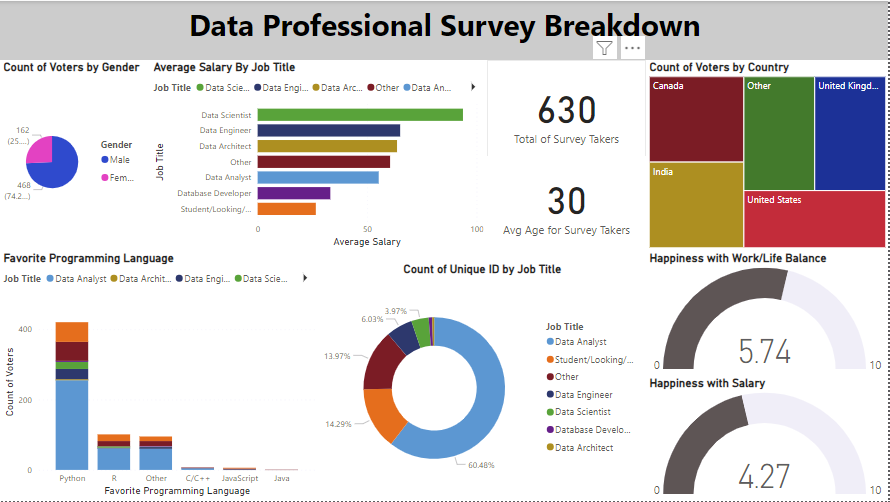

What the dashboard file says about the page in this screenshot:
{"tool":"powerbi","page":{"name":"Page 1","canvas":[1280,720],"ordinal":0},"visuals":[{"type":"textbox","box":[0,0,1280.2,85],"z":0},{"type":"card","fields":{"Values":["Count(Data Professional Survey.Unique ID)"]},"box":[701.3,85,229,151.2],"z":1000},{"type":"card","fields":{"Values":["Avg(Data Professional Survey.Q10 - Current Age)"]},"box":[701.3,223.2,229,136.8],"z":2000},{"type":"barChart","title":"Average Salary By Job Title","fields":{"Category":["Data Professional Survey.Q1 - Which Title Best Fits your Current Role?.1"],"Y":["Avg(Data Professional Survey.Average Salary)"],"Series":["Data Professional Survey.Q1 - Which Title Best Fits your Current Role?.1"]},"box":[216,85,485.3,275],"z":3000},{"type":"columnChart","title":"Favorite Programming Language","fields":{"Category":["Data Professional Survey.Q5 - Favorite Programming Language.1"],"Y":["CountNonNull(Data Professional Survey.Unique ID)"],"Series":["Data Professional Survey.Q1 - Which Title Best Fits your Current Role?.1"]},"box":[0,360,459.4,358.6],"z":4000},{"type":"donutChart","fields":{"Category":["Data Professional Survey.Q1 - Which Title Best Fits your Current Role?.1"],"Y":["CountNonNull(Data Professional Survey.Unique ID)"]},"box":[459.4,375.8,470.9,344.2],"z":5000},{"type":"treemap","title":"Count of Voters by Country","fields":{"Group":["Data Professional Survey.Q11 - Which Country do you live in?.1"],"Values":["Count(Data Professional Survey.Q11 - Which Country do you live in?.1)"]},"box":[930.2,85,349.9,275],"z":6000},{"type":"gauge","title":"Happiness with Work/Life Balance","fields":{"Y":["Avg(Data Professional Survey.Q6 - How Happy are you in your Current Position with the following? (Work/Life Balance))"],"MinValue":["Min(Data Professional Survey.Q6 - How Happy are you in your Current Position with the following? (Work/Life Balance))"],"MaxValue":["Max(Data Professional Survey.Q6 - How Happy are you in your Current Position with the following? (Work/Life Balance))1"]},"box":[930.2,360,349.9,180],"z":7000},{"type":"pieChart","title":"Count of Voters by Gender","fields":{"Category":["Data Professional Survey.Q9 - Male/Female?"],"Y":["CountNonNull(Data Professional Survey.Unique ID)"]},"box":[0,85,216,275],"z":8000},{"type":"gauge","title":"Happiness with Salary","fields":{"Y":["Avg(Data Professional Survey.Q6 - How Happy are you in your Current Position with the following? (Salary))"],"MinValue":["Min(Data Professional Survey.Q6 - How Happy are you in your Current Position with the following? (Salary))1"],"MaxValue":["Max(Data Professional Survey.Q6 - How Happy are you in your Current Position with the following? (Salary))2"]},"box":[930,540,350,180],"z":9000}]}

Visuals, with their boxes in screenshot pixels (x1, y1, x2, y2), scaled from the page's 1280x720 canvas onto the 890x502 screenshot:
textbox: BBox(0, 0, 889, 59)
card - Count(Data Professional Survey.Unique ID): BBox(488, 59, 647, 165)
card - Avg(Data Professional Survey.Q10 - Current Age): BBox(488, 156, 647, 251)
"Average Salary By Job Title" barChart: BBox(150, 59, 488, 251)
"Favorite Programming Language" columnChart: BBox(0, 251, 319, 501)
donutChart - Data Professional Survey.Q1 - Which Title Best Fits your Current Role?.1 x CountNonNull(Data Professional Survey.Unique ID): BBox(319, 262, 647, 501)
"Count of Voters by Country" treemap: BBox(647, 59, 889, 251)
"Happiness with Work/Life Balance" gauge: BBox(647, 251, 889, 376)
"Count of Voters by Gender" pieChart: BBox(0, 59, 150, 251)
"Happiness with Salary" gauge: BBox(647, 376, 889, 501)
